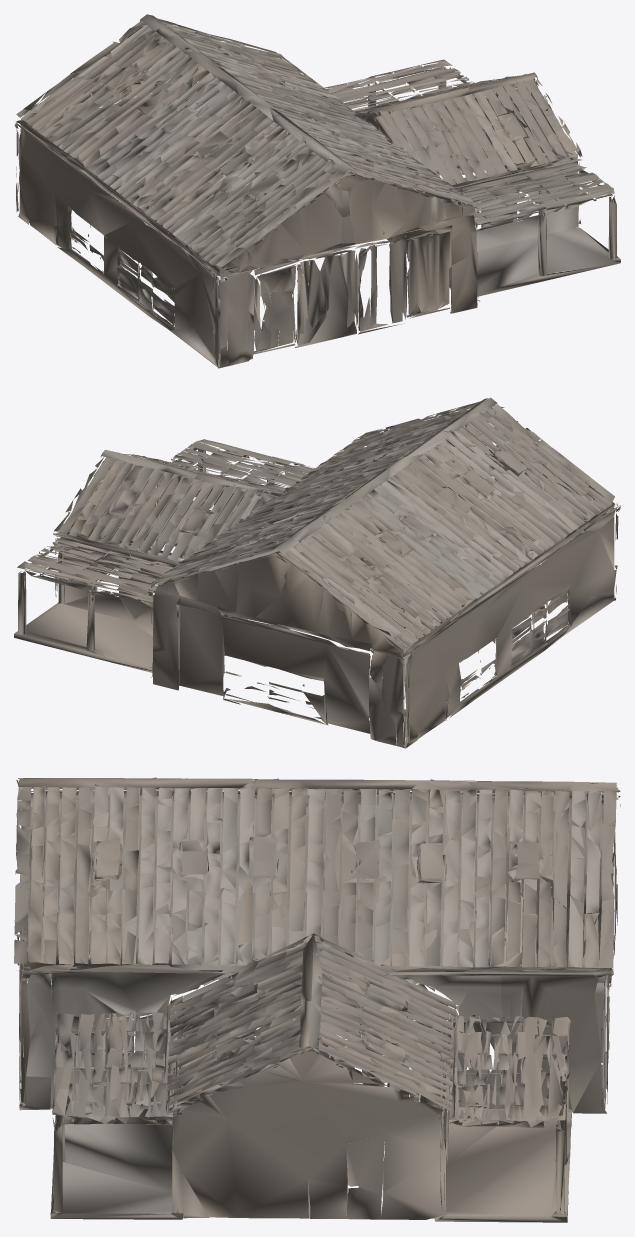
The model's file is hangarhome.glb.
3 views of the same model, one above another, from view 1: azimuth 30°, elevation 25°; view 2: azimuth 150°, elevation 25°; view 3: azimuth 270°, elevation 25° (orthographic). The views are drawn at different scales.
Visible parts, largest first — view 1: LO.001; view 2: LO.001; view 3: LO.001.
Part boxes in pixels (x1,y1,x2,y2): LO.001: (14, 14, 620, 368); LO.001: (14, 397, 620, 748); LO.001: (14, 777, 620, 1222).
Size of the model in its own units: 1.91 by 0.7425 by 1.66.
Materials: 1 (1 with a texture image).
